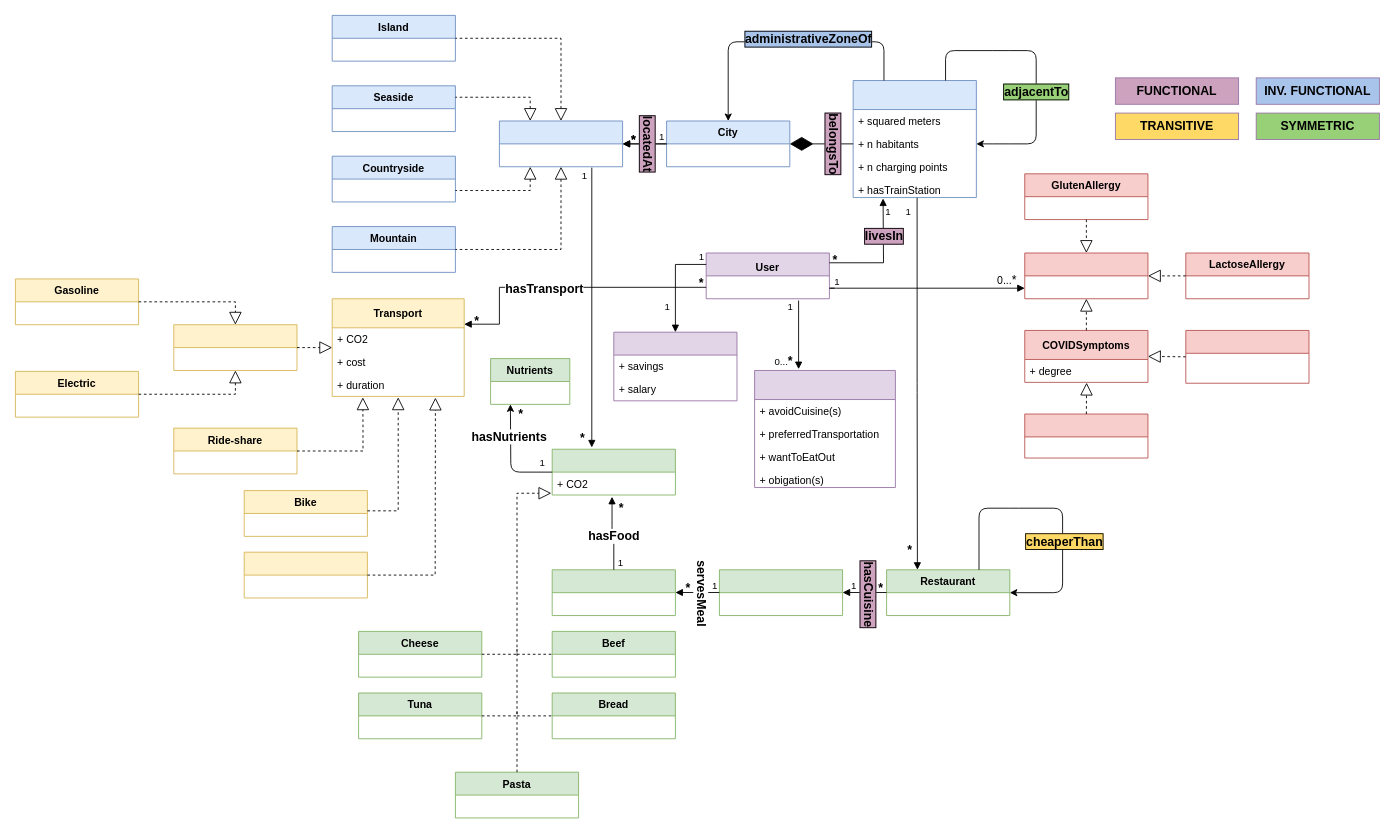
Some shapes in this 1395 by 833 pixel diagram are drawn without their labels. Each missing label, with the box of its shape:
Car: (173, 324, 297, 370)
Cuisine: (719, 569, 843, 616)
Fever: (1185, 330, 1309, 383)
Food: (551, 448, 675, 495)
HealthCondition: (1024, 252, 1148, 299)
Location: (499, 120, 623, 167)
Meal: (551, 569, 675, 616)
MuscleAche: (1024, 413, 1148, 458)
Neighborhood: (852, 80, 976, 198)
Preferences: (754, 370, 895, 488)
Train: (243, 551, 367, 598)
Wealth: (613, 331, 737, 401)
